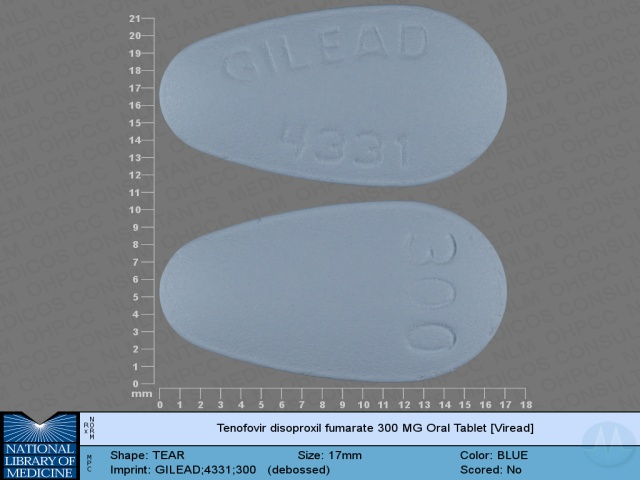0: (398, 319, 459, 358), (410, 273, 459, 314)
1: (392, 125, 418, 176)
3: (398, 223, 463, 272), (350, 125, 385, 172), (311, 123, 345, 167)
4: (274, 115, 310, 162)
A: (353, 25, 389, 69)
D: (396, 22, 433, 62)
E: (315, 27, 349, 72)
G: (219, 42, 260, 83)
L: (273, 36, 316, 75)
